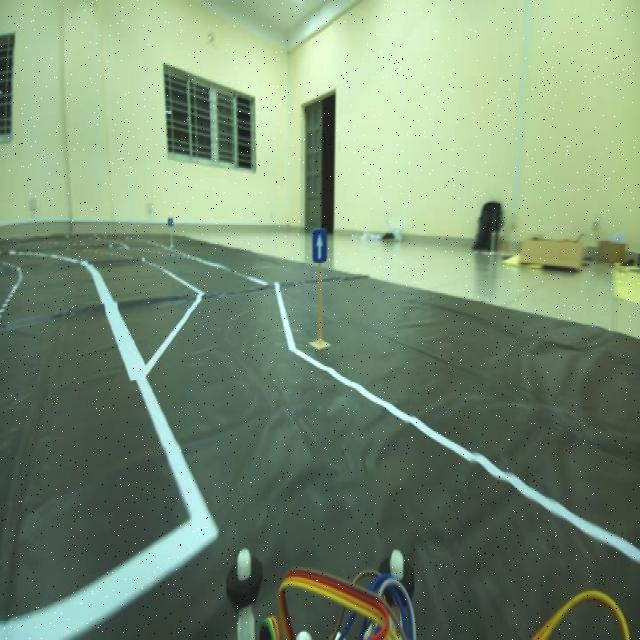onewayroad: (309, 228, 329, 266)
